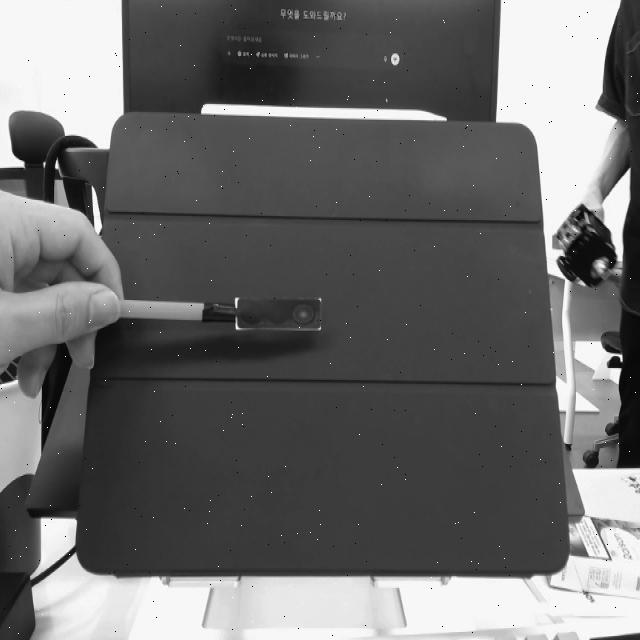traffic light: (234, 291, 326, 337)
